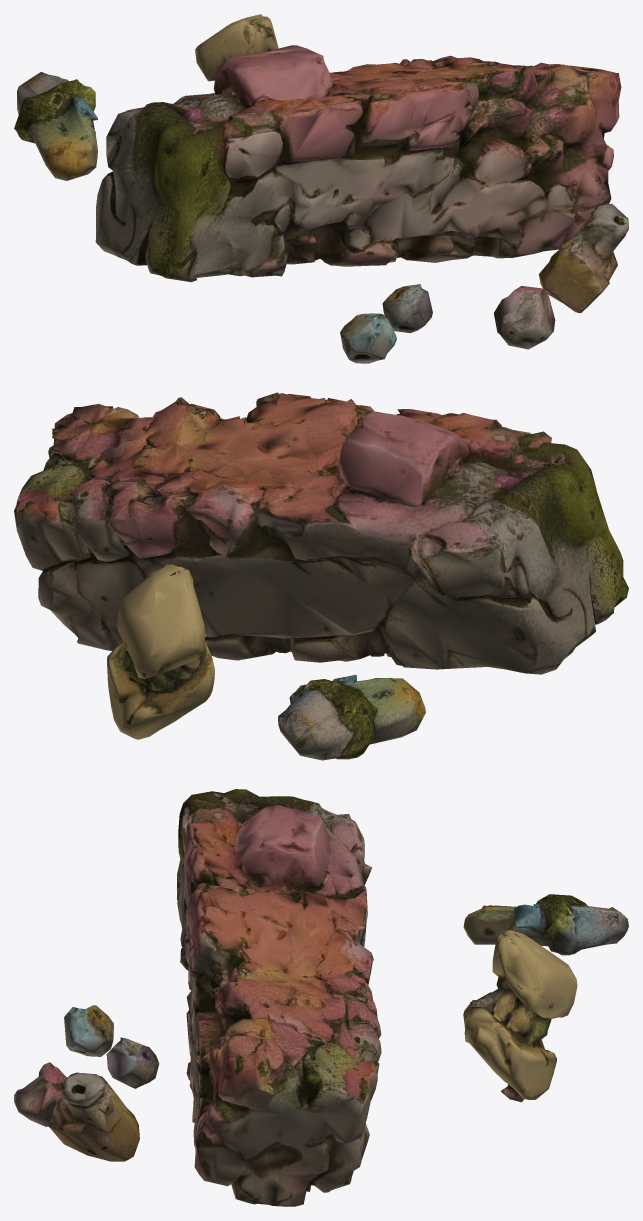
The model's file is rock_pink2.glb.
3 renders of one model, top to bottom at view 1: azimuth 30°, elevation 25°; view 2: azimuth 150°, elevation 25°; view 3: azimuth 270°, elevation 25°, orthographic. The views are drawn at different scales.
Parts seen in each view (by area): view 1: tripo_node_3995cc5b; view 2: tripo_node_3995cc5b; view 3: tripo_node_3995cc5b.
Part boxes in pixels (bbox=[...]): tripo_node_3995cc5b: bbox=[14, 14, 628, 363]; tripo_node_3995cc5b: bbox=[14, 392, 628, 760]; tripo_node_3995cc5b: bbox=[14, 789, 628, 1206].
Size of the model in its own units: 0.9009 by 0.4394 by 0.9791.
1 material, 1 textured.
